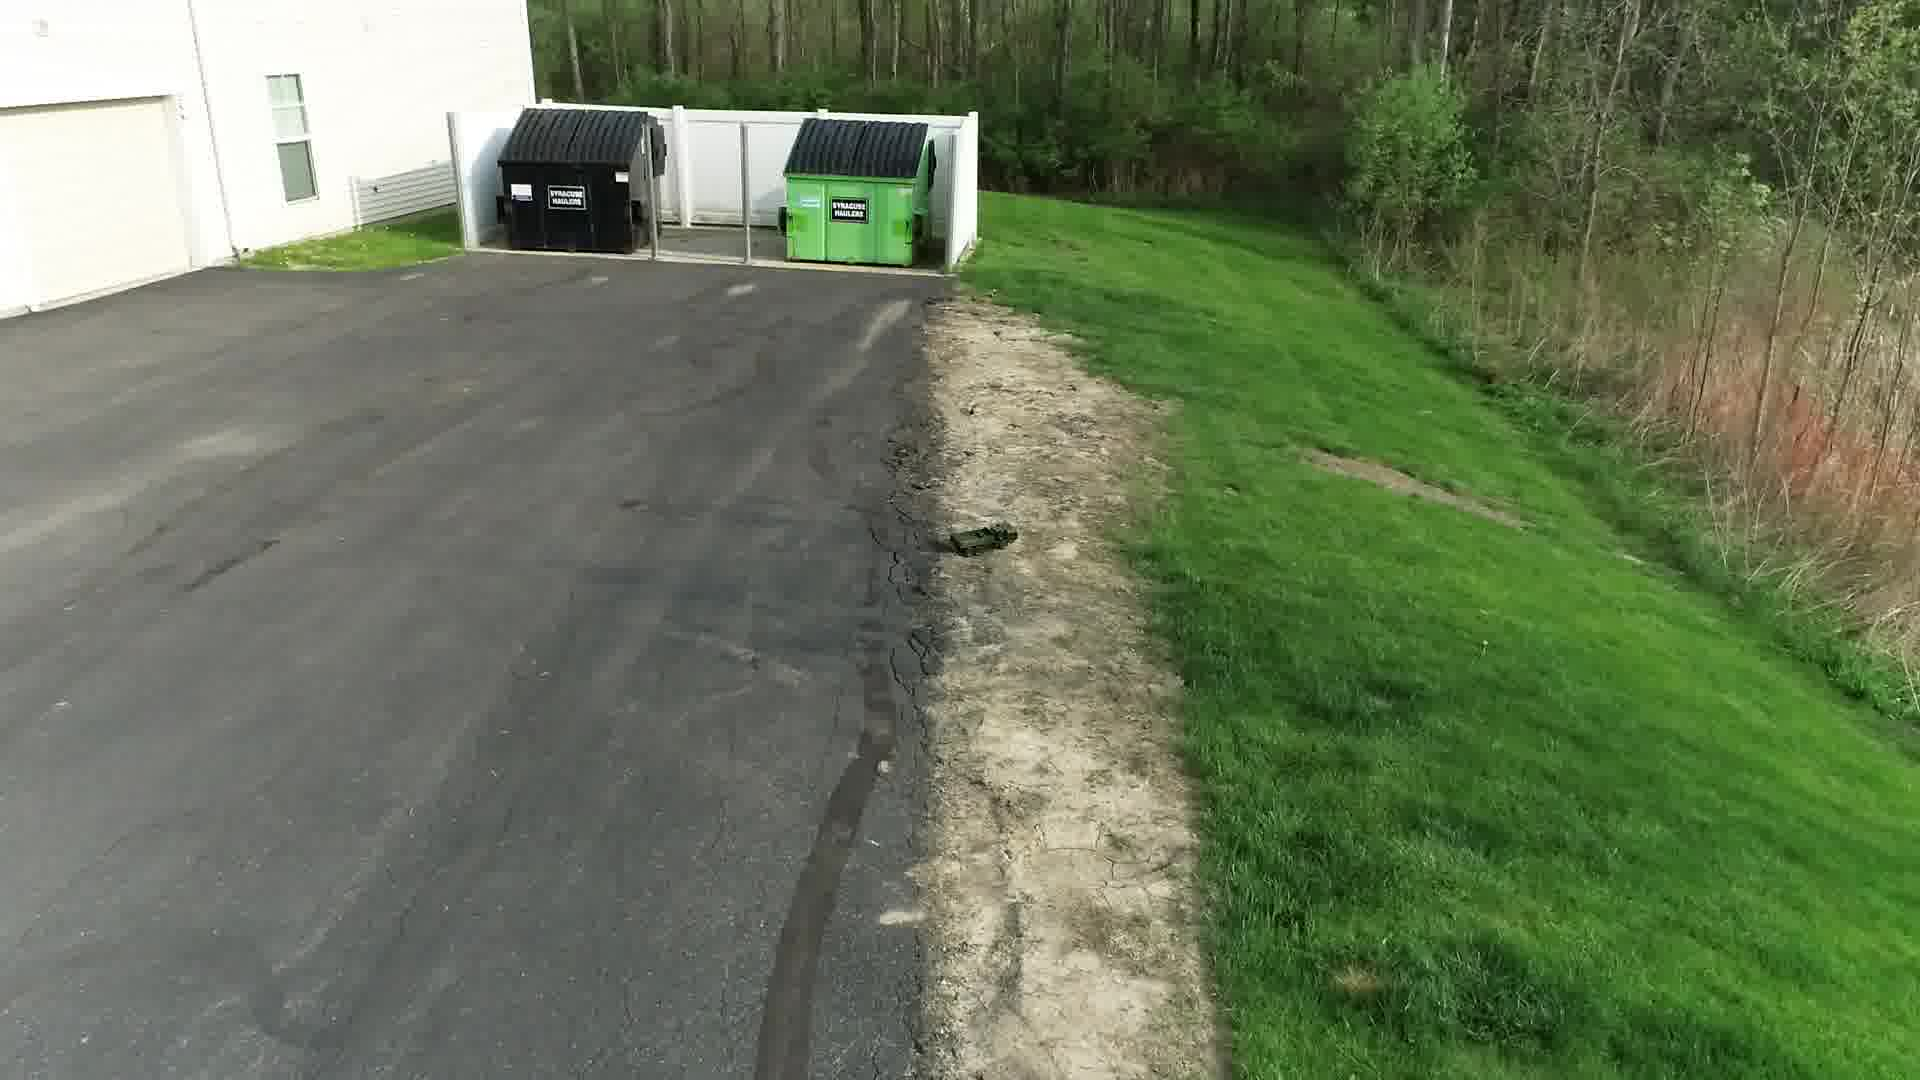transporter9: (947, 520, 1021, 558)
